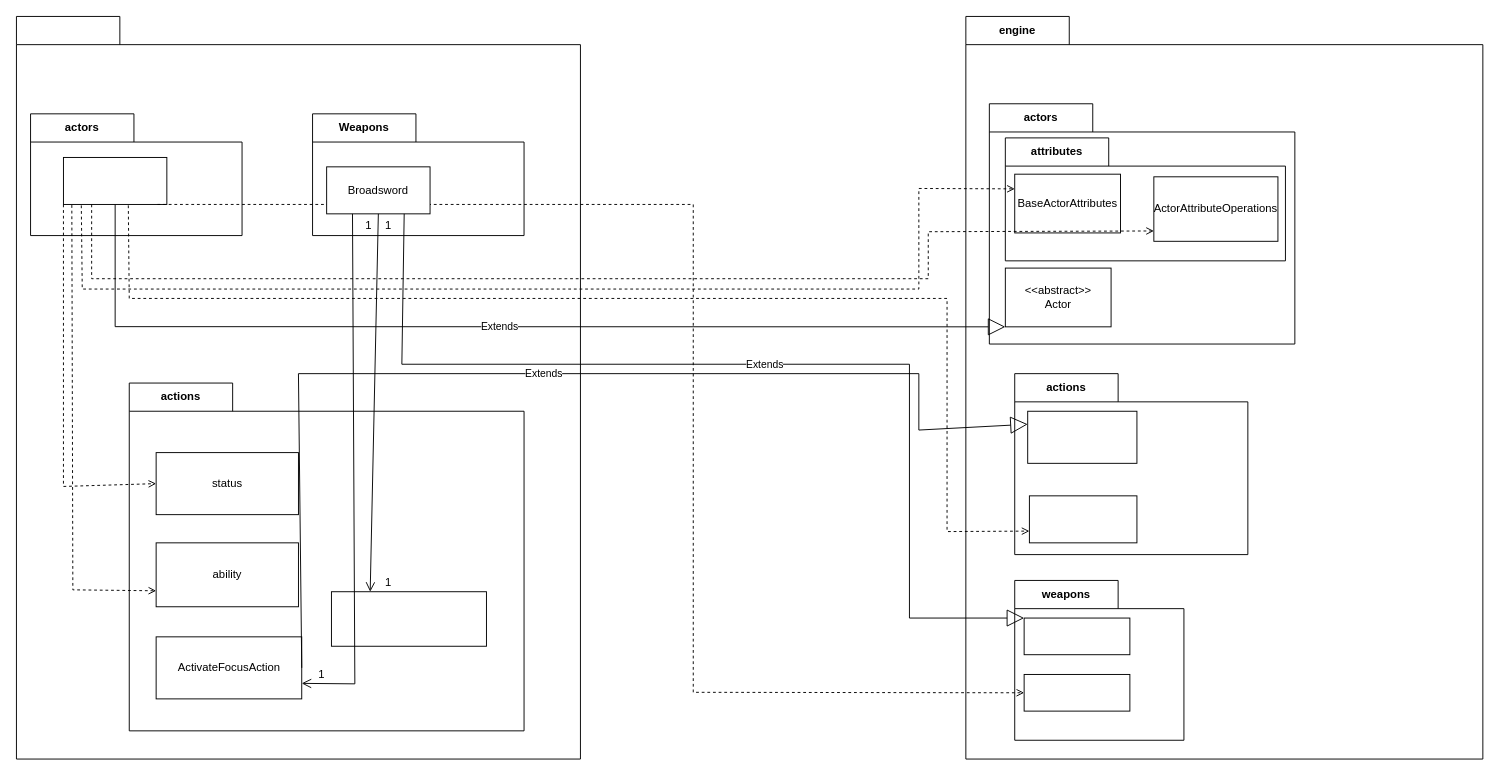
Some shapes in this 1499 by 776 pixel diagram are drawn without their labels. The shapes that lost their labels are listed below. From the top down, each one's box as (x1, y1, x2, y2) in pixels, then its label:
(63, 157, 167, 204): Player
(16, 16, 580, 759): gsme
(1027, 410, 1137, 463): <<abstract>> Action
(1028, 495, 1137, 543): ActionList
(331, 591, 486, 646): AttackAction
(1023, 617, 1130, 655): <<abstract>> WeaponItem
(1023, 674, 1130, 711): IntrinsicWeapon
